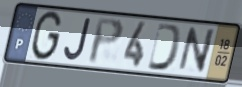4: (121, 19, 147, 70)
D: (145, 22, 185, 73)
G: (29, 10, 64, 63)
J: (62, 16, 93, 63)
N: (175, 26, 217, 75)
P: (87, 17, 126, 67)
